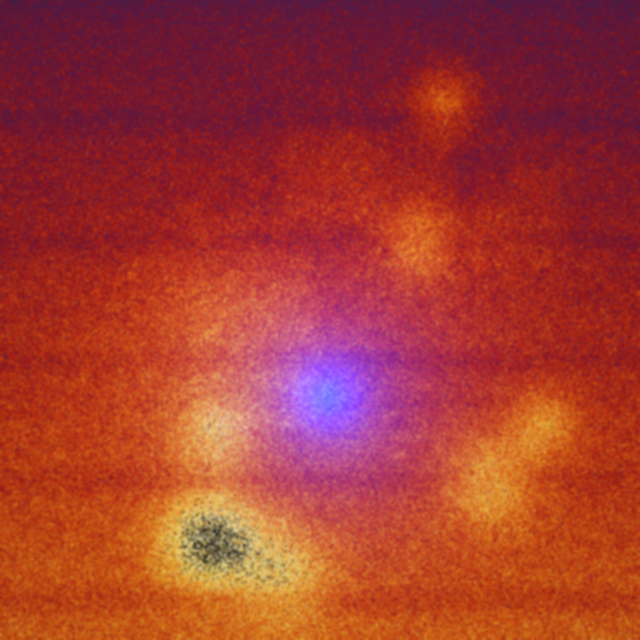nozzle: (295, 361, 371, 437)
